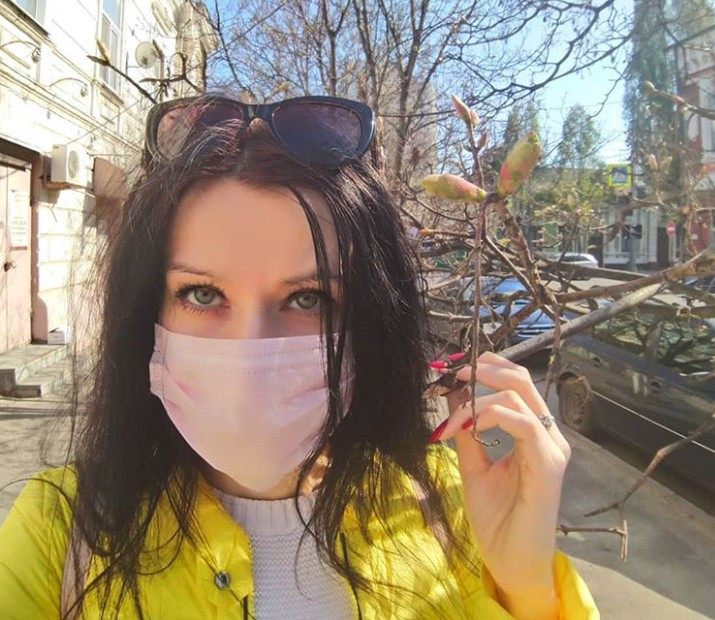face_with_mask: (129, 165, 417, 493)
